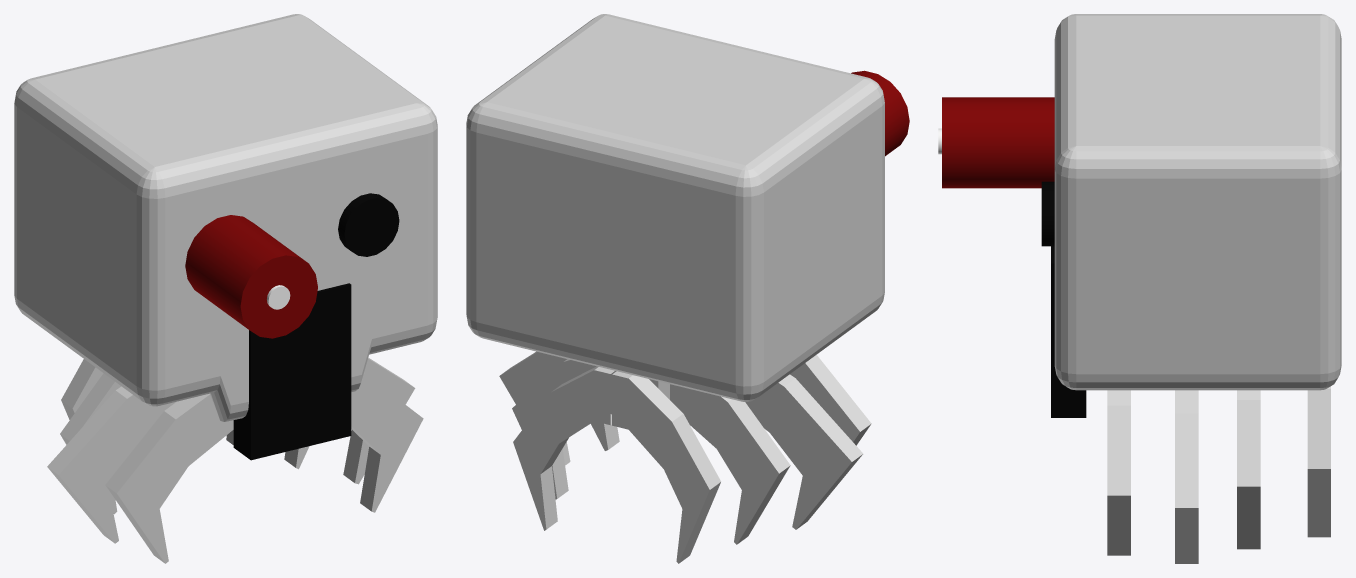
The model's file is torreta.fbx.
3 views of the same model, side by side, from view 1: azimuth 30°, elevation 25°; view 2: azimuth 150°, elevation 25°; view 3: azimuth 270°, elevation 25° (orthographic). The views are drawn at different scales.
Visible parts, largest first — view 1: ChamferBox043, Box044, Cylinder001, Box034, Box035, Box033, Cylinder002, Box032, Box038, Box040; view 2: ChamferBox043, Box040, Box035, Box038, Box042, Box034, Box037, Box032, Cylinder001; view 3: ChamferBox043, Cylinder001, Box032, Box033, Box037, Box042, Box044, Cylinder002.
Part boxes in pixels (x1,y1,x2,y2): ChamferBox043: (14, 14, 437, 421); Box044: (233, 283, 351, 460); Cylinder001: (185, 215, 317, 338); Box034: (105, 393, 233, 563); Box035: (47, 386, 176, 543); Box033: (351, 373, 423, 512); Cylinder002: (338, 193, 399, 256); Box032: (343, 357, 415, 484); Box038: (60, 373, 121, 514); Box040: (61, 359, 103, 419); ChamferBox043: (466, 14, 884, 401); Box040: (612, 371, 721, 563); Box035: (745, 374, 863, 529); Box038: (670, 384, 790, 544); Box042: (513, 366, 616, 530); Box034: (790, 354, 871, 445); Box037: (512, 359, 596, 499); Box032: (499, 351, 570, 465); Cylinder001: (851, 70, 909, 156); ChamferBox043: (1054, 14, 1341, 390); Cylinder001: (938, 97, 1054, 188); Box032: (1175, 390, 1198, 563); Box033: (1107, 390, 1130, 555); Box037: (1237, 390, 1260, 549); Box042: (1307, 386, 1330, 537); Box044: (1051, 246, 1086, 417); Cylinder002: (1041, 181, 1054, 246).
Size of the model in its own units: 642 by 712 by 616.
